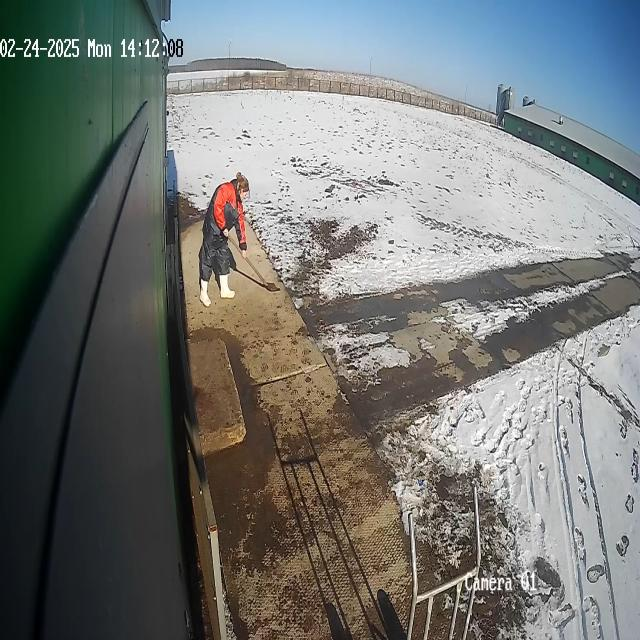Red uniform: (197, 170, 251, 310)
